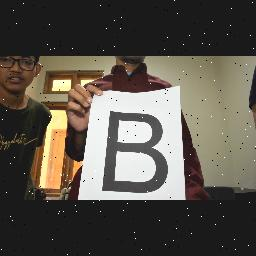b: (98, 107, 170, 195)
